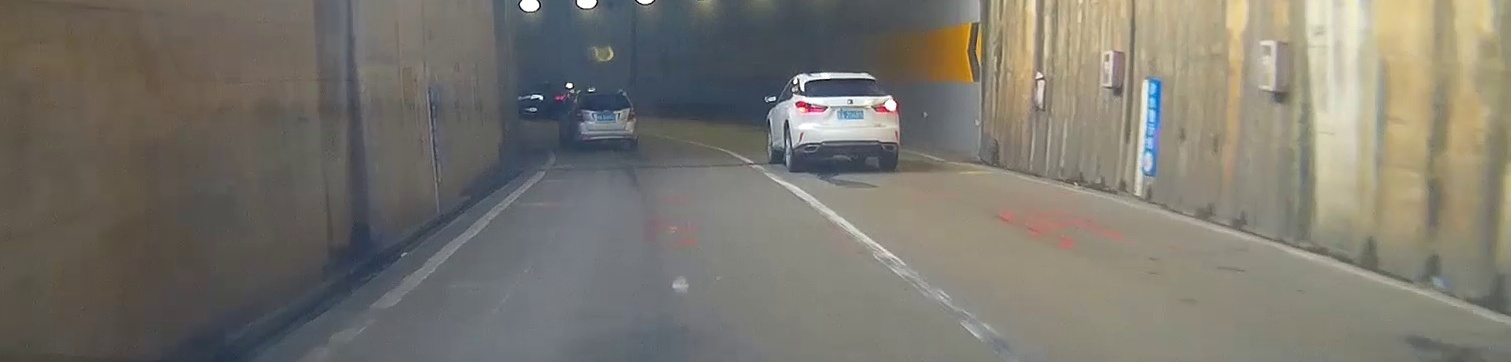L_light: (795, 102, 830, 114)
R_light: (870, 97, 897, 112)
T_light: (838, 78, 853, 82)
day-right: (791, 71, 900, 172)
